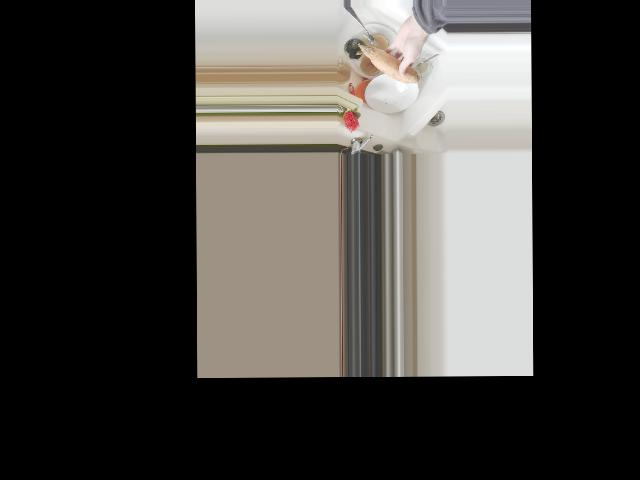sweet_potato: (359, 41, 420, 85)
